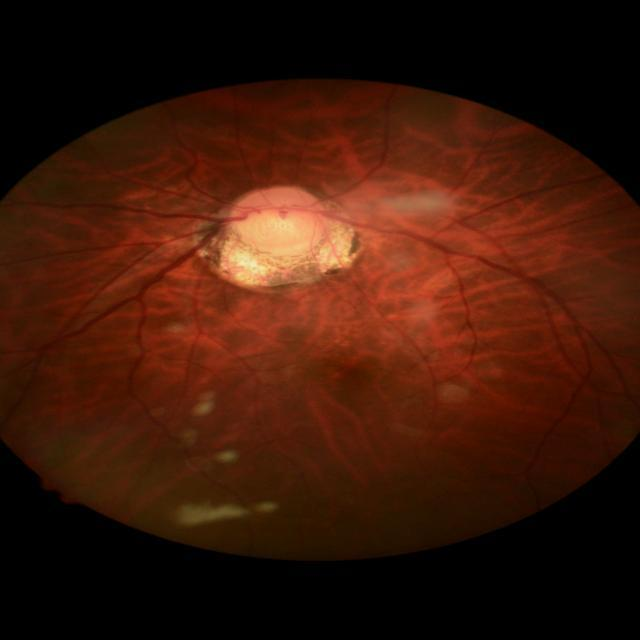cup: (243, 205, 320, 243)
disk: (229, 184, 329, 256)
